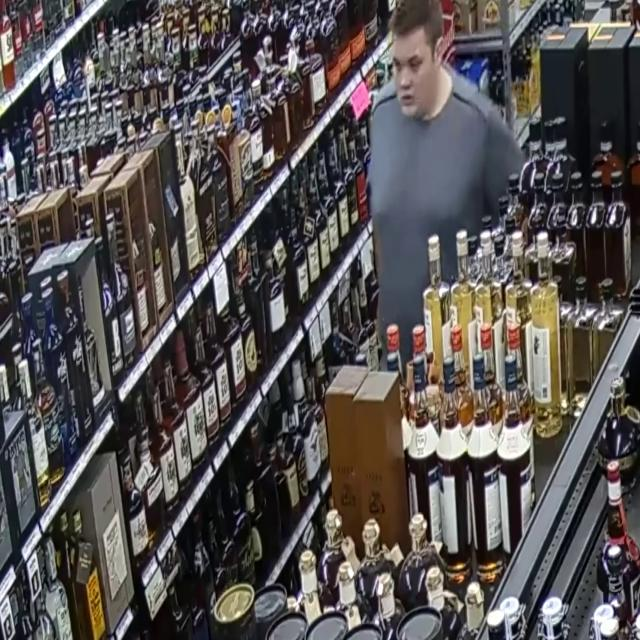normal: (342, 2, 520, 356)
